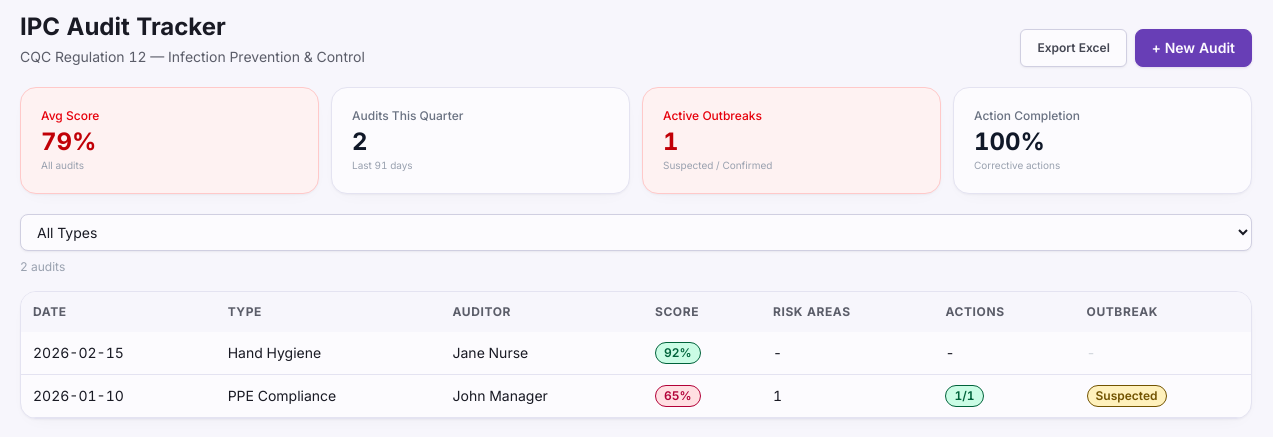
Test: IpcAuditTracker › filter by audit type narrows table results
The width and height of the screenshot is (1273, 437).
Check: the text "Jane Nurse" is shown, box [440,332,643,374]
Note: Filter to PPE only
Select "PPE Compliance" in the dropdown named "Filter IPC audits by type" at (636, 232), box [20,214,1252,251]
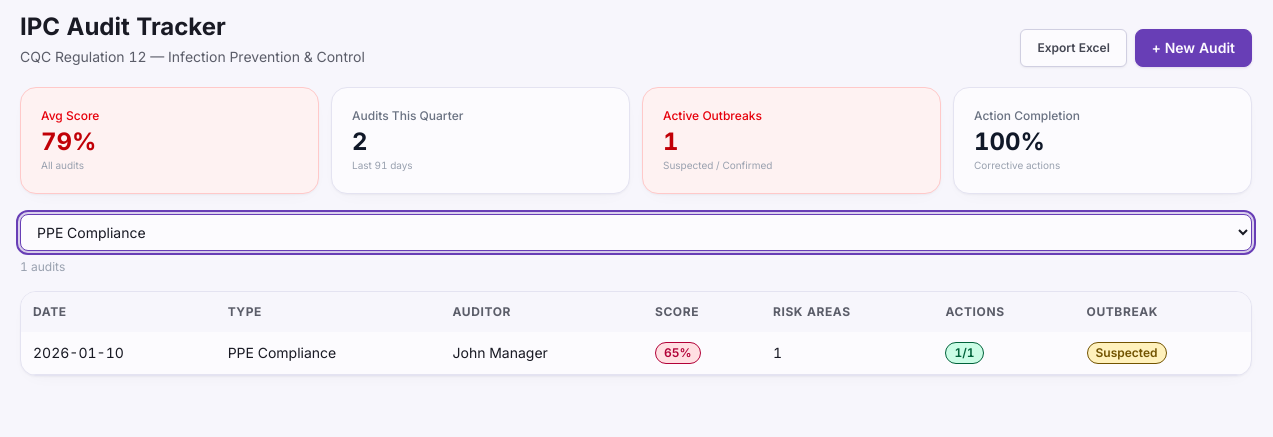
Check: the text "John Manager" is shown, box [440,332,643,374]
Check: the button "Jane Nurse" is gone
